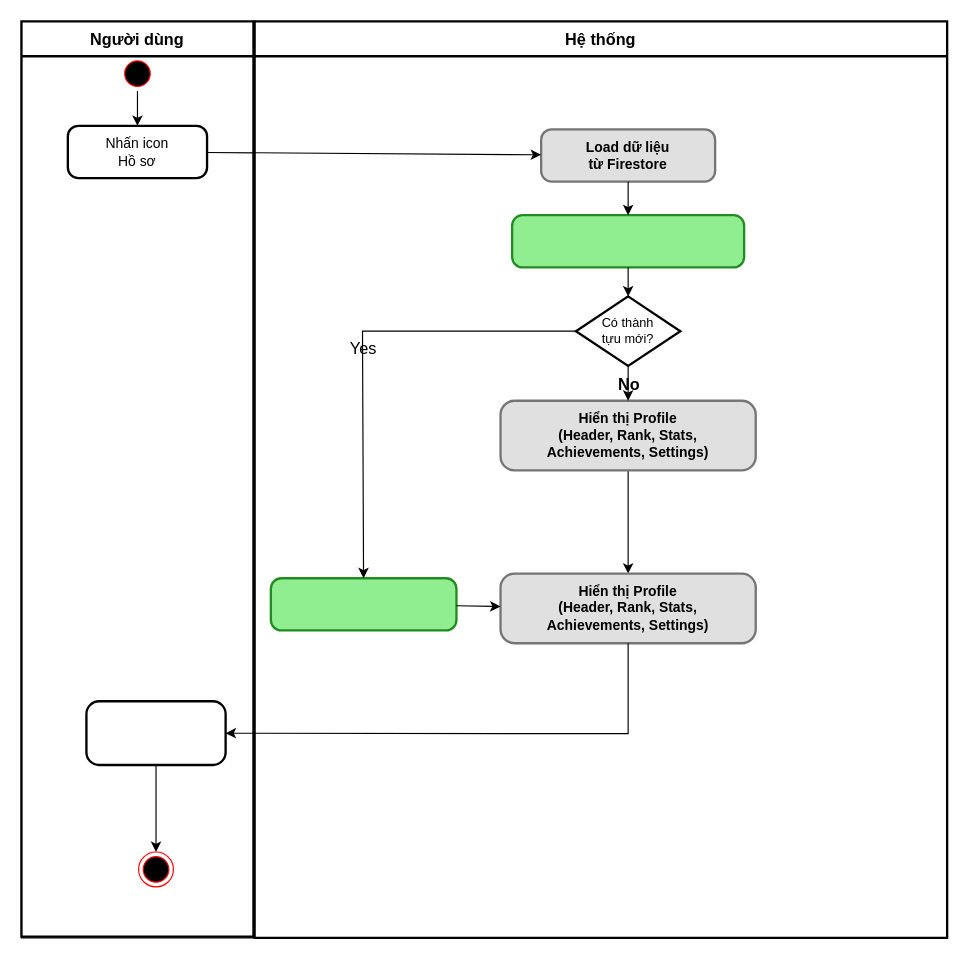
Some shapes in this 967 by 958 pixel diagram are drawn without their labels. Each missing label, with the centre of its shape:
Check các thành tựu (checkAndClaimAchievements): point (627, 240)
Hiện Dialog "THÀNH TỰU MỚI!": point (363, 604)
Xem thông tin (Header, Rank, Stats, Settings): point (155, 732)
